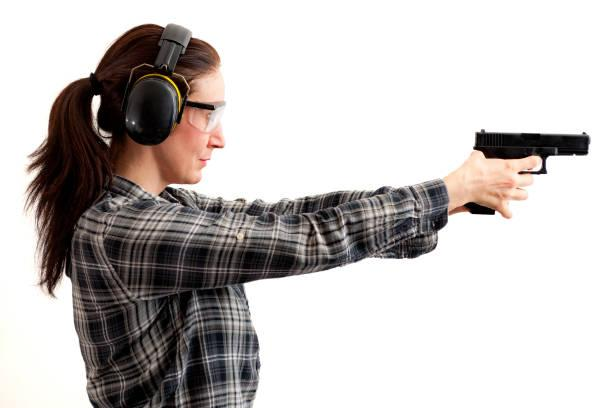weapon: (464, 125, 594, 220)
